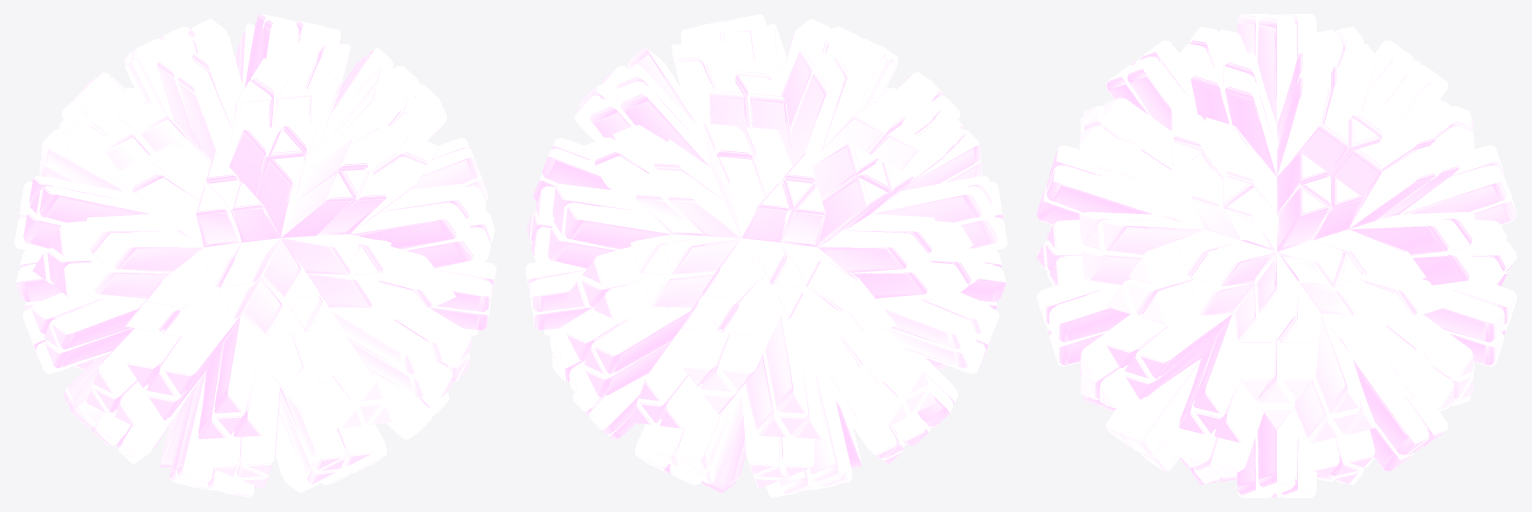
3 views of the same model, side by side, from view 1: azimuth 30°, elevation 25°; view 2: azimuth 150°, elevation 25°; view 3: azimuth 270°, elevation 25° (orthographic).
Visible parts, largest first — view 1: Icosphere_2; view 2: Icosphere_2; view 3: Icosphere_2.
Boxes of the visible parts, x1=… form: Icosphere_2: x1=14, y1=14, x2=496, y2=497; Icosphere_2: x1=525, y1=14, x2=1007, y2=497; Icosphere_2: x1=1036, y1=14, x2=1517, y2=497.
Bounding box in the file's own units: 3.56 × 3.55 × 3.54.
